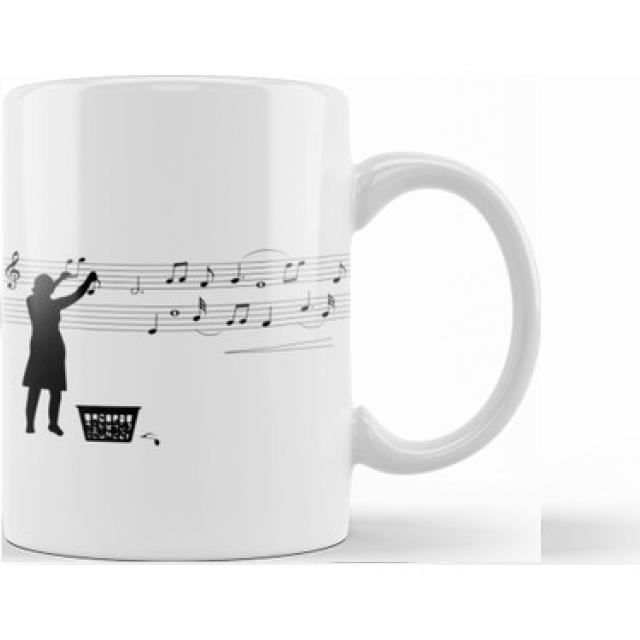Coffee Mug: (2, 75, 541, 562)
